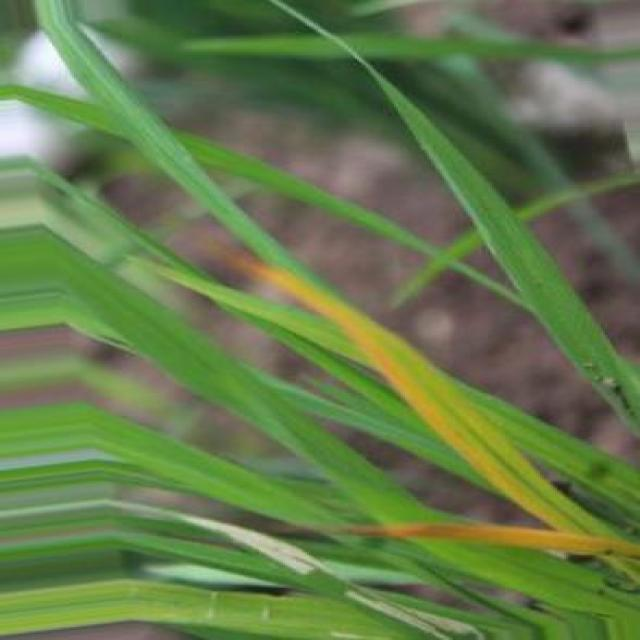Rice Tungro: (237, 258, 616, 538), (345, 524, 640, 558)
